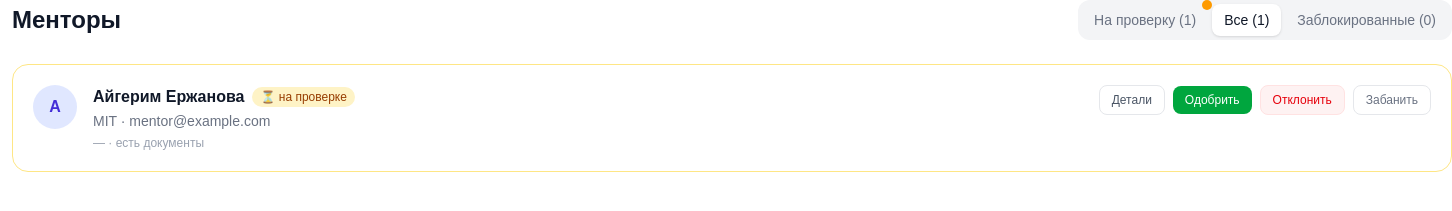
Test: CRMMentorsPage › rejects a mentor and refetches the list
This screenshot has width=1452, height=211.
Expected: the link "Айгерим Ержанова" is shown, [93,85,244,109]
Click the button "Отклонить": (1302, 100) [1260,85,1345,115]
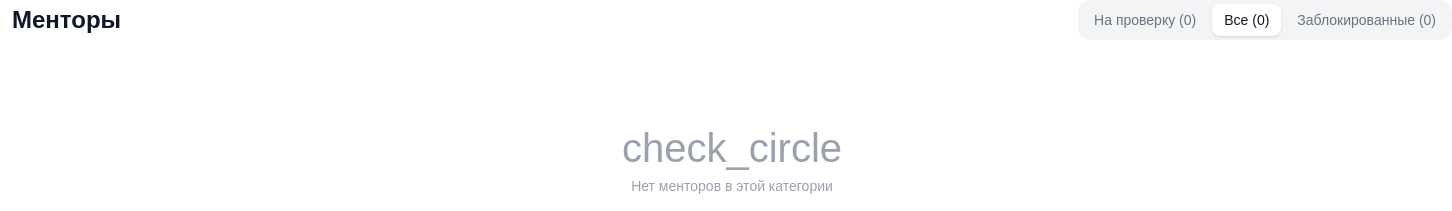
Result: the text "Нет менторов в этой категории" is shown at [631,178,833,194]
